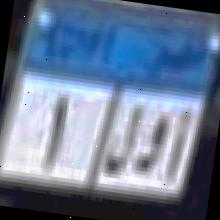1: (40, 88, 74, 178)
alif: (162, 102, 194, 188)
laam: (101, 92, 145, 181)
waw: (132, 105, 170, 183)
